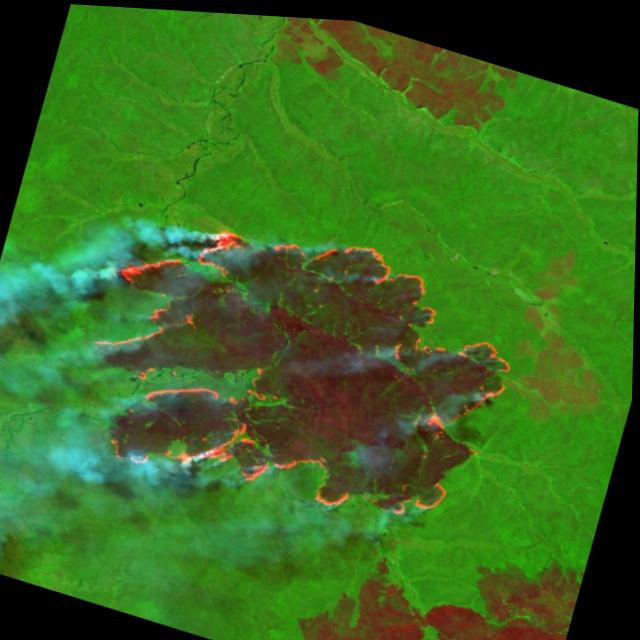fire: (55, 165, 543, 559)
